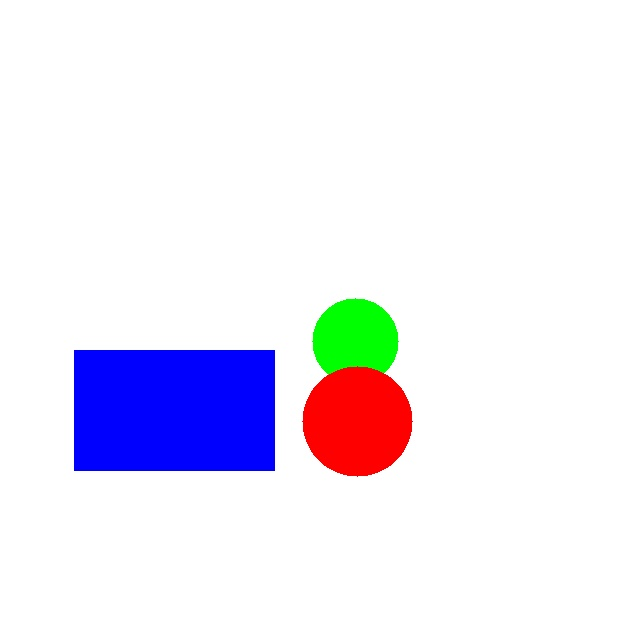cartao: (74, 350, 274, 470)
rosca_externa: (312, 298, 398, 384)
rosca_interna: (302, 366, 412, 476)
